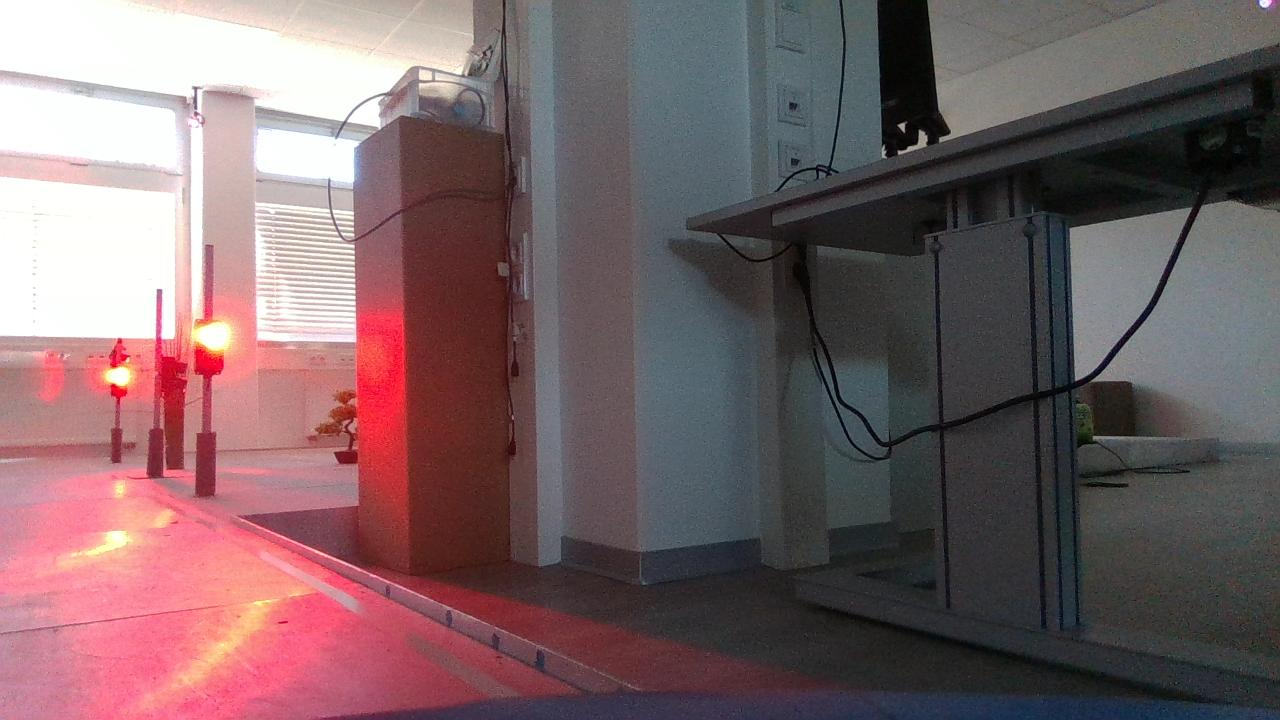traffic_light_red: (179, 310, 236, 390)
